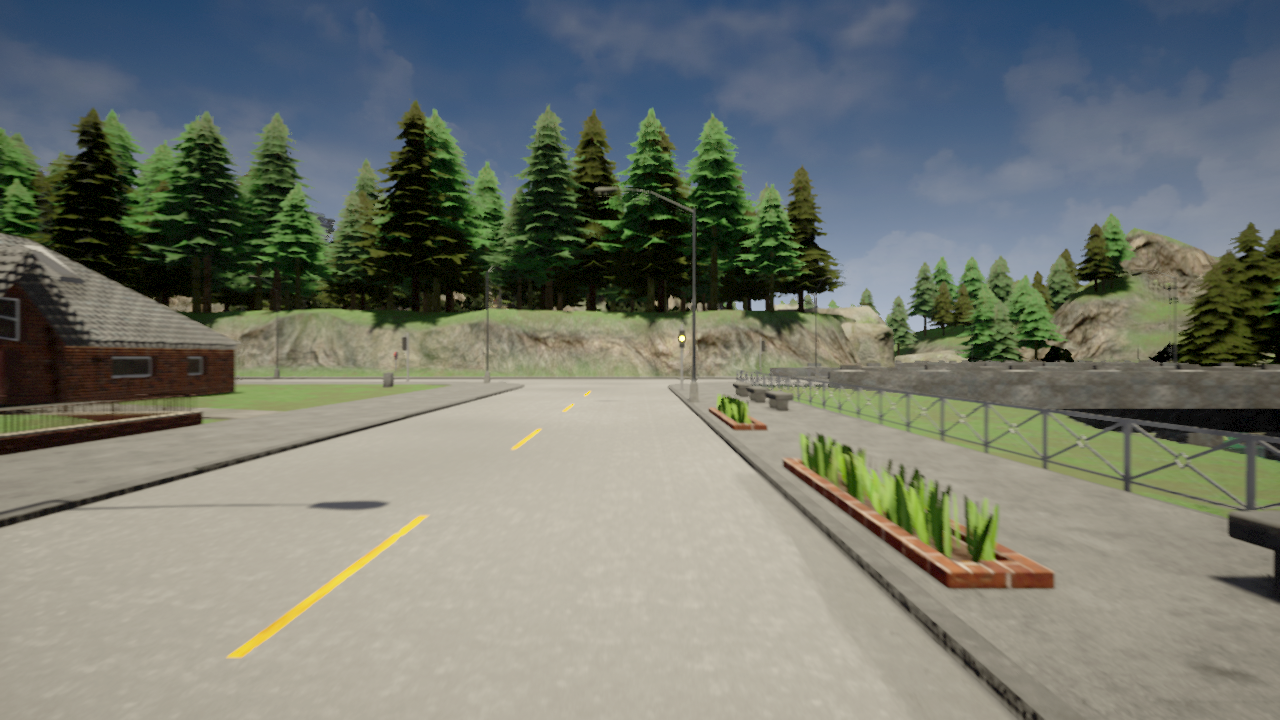yellow: (678, 329, 686, 347)
